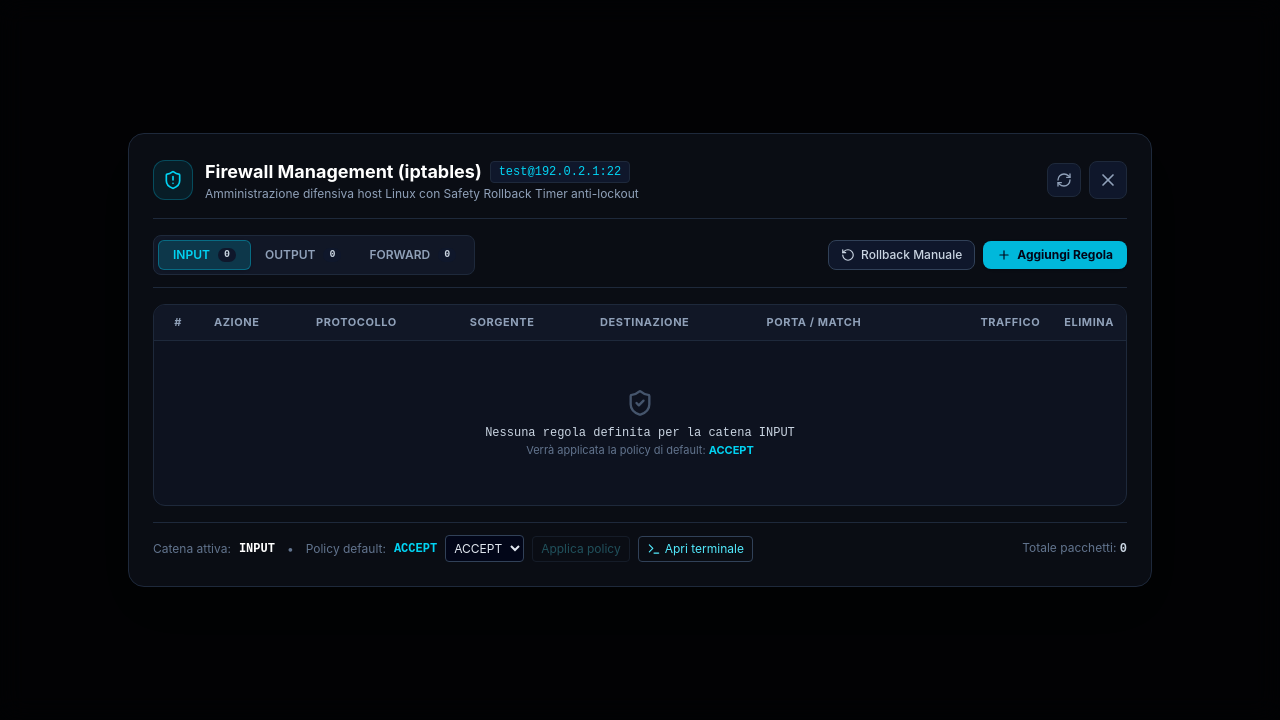
Test: keeps anti-lockout protection mandatory in the rule form
The width and height of the screenshot is (1280, 720).
Click the button "Aggiungi Regola" at (1055, 255), box [983,241,1127,269]
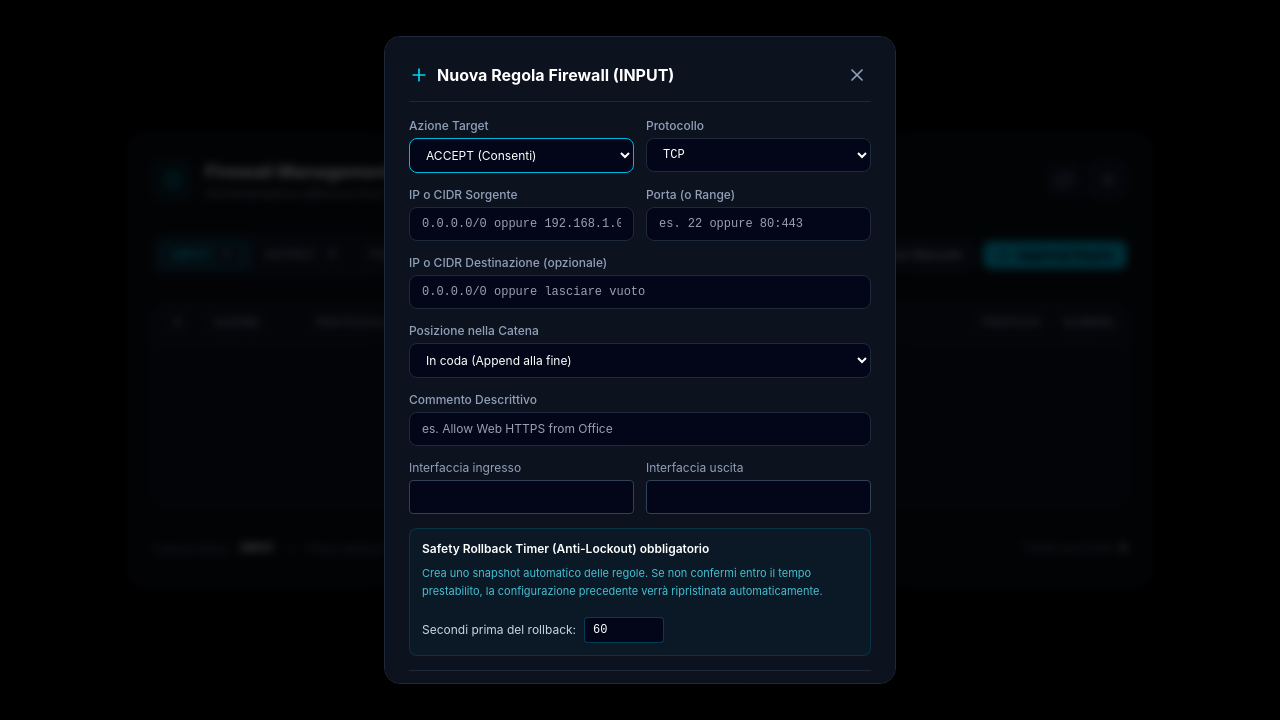
Result: the text "Safety Rollback Timer (Anti-Lockout) obbligatorio" is shown at [422,541,709,556]
